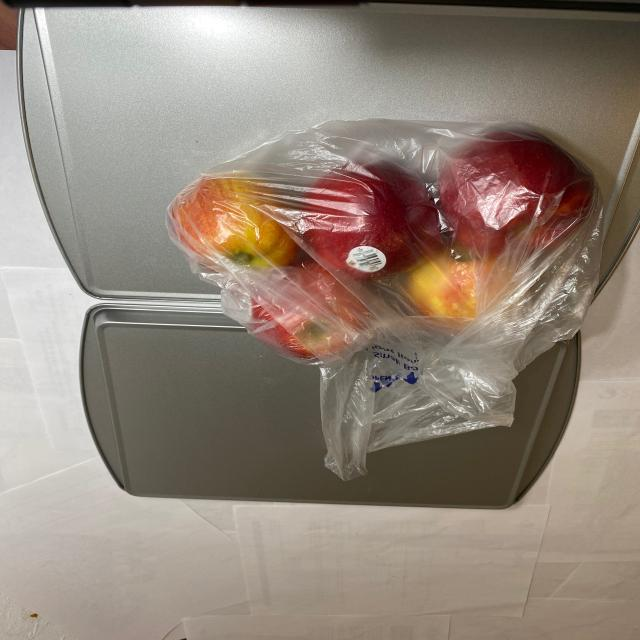apple: (159, 118, 603, 362)
